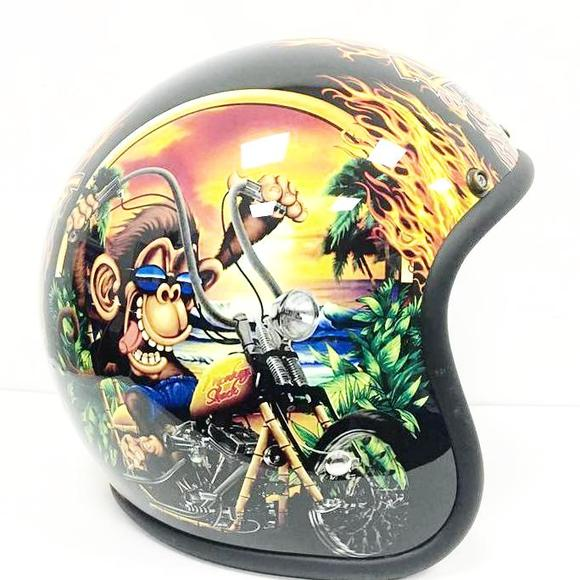with_helmet: (32, 26, 540, 580)
